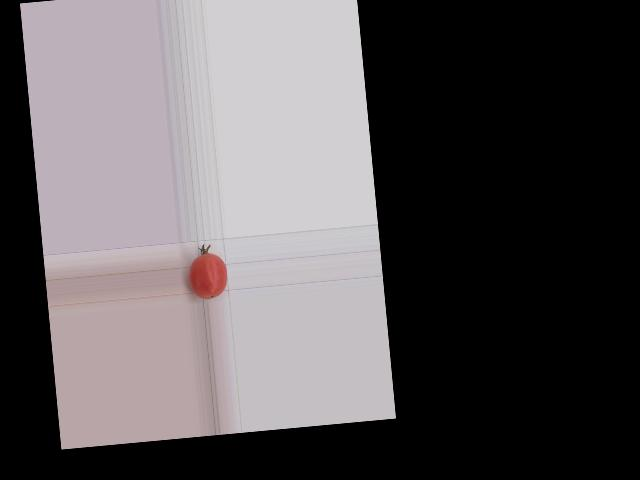tomato: (187, 252, 229, 300)
